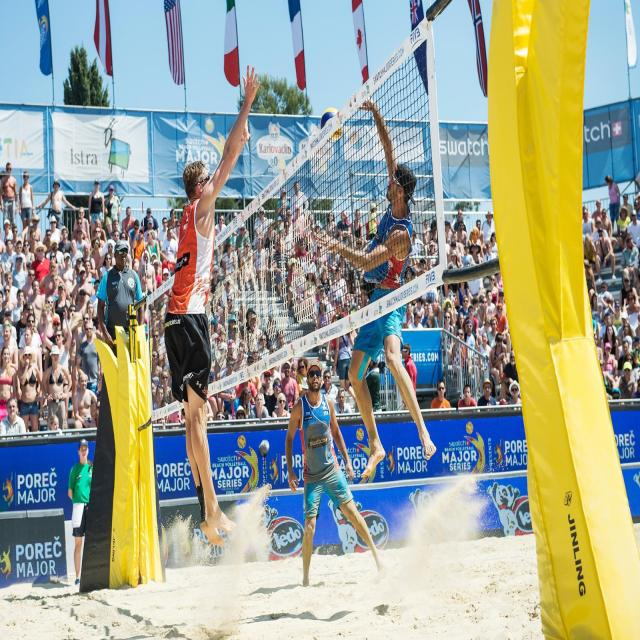body: (162, 61, 264, 550), (348, 89, 438, 480), (284, 356, 391, 590), (95, 238, 146, 342), (589, 285, 640, 372), (42, 308, 74, 430), (68, 438, 94, 586), (42, 344, 73, 430), (333, 312, 358, 408), (16, 345, 42, 432), (76, 321, 102, 404), (36, 178, 76, 230), (17, 325, 43, 396), (212, 325, 256, 363), (72, 372, 98, 435), (136, 250, 158, 320), (592, 226, 618, 284), (292, 236, 315, 297), (29, 240, 52, 300), (0, 346, 18, 420), (313, 288, 334, 350), (0, 162, 18, 234), (18, 169, 35, 244), (0, 396, 28, 441), (38, 259, 69, 298), (262, 217, 284, 271), (36, 306, 54, 372), (220, 240, 242, 293), (290, 181, 309, 242), (364, 354, 383, 414), (292, 265, 312, 322), (217, 356, 237, 413), (252, 204, 275, 252), (70, 264, 96, 306), (604, 174, 621, 238), (273, 238, 291, 298), (615, 360, 638, 406), (18, 313, 43, 355), (449, 328, 468, 383), (620, 236, 640, 288), (463, 318, 479, 381), (254, 238, 272, 294), (316, 300, 332, 362), (280, 359, 298, 414), (492, 301, 511, 353), (88, 178, 105, 235), (207, 373, 226, 424), (0, 322, 19, 372), (52, 283, 72, 330), (332, 293, 364, 322), (320, 368, 340, 414), (58, 252, 78, 298), (401, 342, 418, 396), (239, 241, 257, 292), (501, 350, 519, 400), (245, 312, 265, 357), (490, 332, 509, 379), (279, 219, 297, 268), (76, 312, 97, 354), (1, 238, 18, 289), (73, 205, 92, 250), (45, 316, 68, 353), (161, 225, 178, 275), (260, 369, 278, 416), (21, 214, 42, 254), (622, 291, 640, 337), (152, 384, 170, 430), (208, 296, 222, 354), (150, 325, 168, 370), (28, 279, 46, 324), (440, 310, 454, 367), (421, 292, 459, 313), (131, 225, 152, 262), (583, 232, 597, 287), (476, 377, 498, 412), (427, 218, 442, 269), (104, 184, 122, 226), (468, 240, 486, 282), (270, 377, 288, 418), (616, 205, 632, 250), (336, 211, 354, 251), (253, 237, 266, 292), (140, 207, 160, 242), (457, 383, 481, 412), (160, 266, 172, 324), (618, 274, 639, 307), (0, 271, 19, 307), (250, 391, 270, 425), (220, 275, 238, 312), (232, 386, 252, 419), (276, 188, 290, 235), (600, 324, 620, 356), (583, 259, 597, 304), (421, 288, 442, 318), (0, 306, 18, 341), (313, 243, 328, 284), (430, 379, 451, 408), (468, 226, 484, 264), (234, 380, 257, 406), (402, 260, 429, 282), (272, 392, 291, 423), (10, 288, 25, 327), (21, 268, 36, 307), (10, 239, 27, 273), (160, 369, 176, 405), (448, 249, 462, 290), (351, 208, 364, 252), (132, 257, 160, 277), (350, 265, 363, 307), (318, 264, 335, 296), (236, 226, 252, 260), (12, 256, 28, 290), (49, 250, 65, 284), (601, 342, 616, 378), (215, 214, 227, 259), (121, 206, 136, 242), (582, 206, 596, 244), (80, 243, 96, 276), (44, 294, 61, 325), (464, 305, 479, 340), (90, 217, 108, 246), (333, 387, 353, 413), (450, 208, 469, 235), (240, 306, 256, 338), (481, 210, 496, 244), (146, 229, 161, 263), (626, 208, 640, 244), (466, 276, 484, 304), (478, 331, 492, 367), (57, 224, 73, 255), (100, 238, 116, 268), (68, 238, 84, 268), (152, 294, 166, 328), (46, 238, 65, 263), (366, 201, 378, 240), (292, 203, 304, 242), (70, 216, 88, 242), (49, 215, 64, 246), (618, 192, 634, 220), (485, 274, 499, 306), (454, 310, 468, 342), (226, 313, 242, 341), (22, 239, 36, 271), (90, 236, 103, 270), (421, 218, 432, 258), (334, 268, 348, 299), (456, 220, 468, 256), (1, 284, 17, 311), (471, 295, 484, 328), (507, 378, 522, 406), (479, 318, 493, 348), (409, 229, 424, 257), (256, 332, 271, 360), (74, 286, 88, 316), (157, 216, 170, 248), (600, 208, 613, 239), (438, 284, 454, 309), (487, 316, 499, 349), (0, 218, 14, 246), (144, 216, 158, 244), (456, 282, 470, 310), (426, 240, 439, 270), (150, 349, 163, 379), (166, 209, 179, 238), (99, 251, 114, 276), (450, 230, 463, 258), (296, 356, 309, 384), (591, 198, 603, 228), (210, 264, 222, 294), (76, 228, 88, 258), (42, 228, 54, 258), (402, 302, 415, 329), (10, 225, 23, 252), (485, 290, 496, 321), (325, 212, 337, 240), (84, 298, 95, 328), (48, 414, 63, 436), (128, 219, 141, 244), (408, 310, 425, 329), (461, 244, 474, 268), (140, 275, 153, 299), (457, 295, 470, 319), (264, 363, 279, 383), (483, 242, 497, 263), (94, 225, 106, 249), (108, 218, 122, 238), (633, 184, 640, 224), (72, 257, 84, 280), (235, 404, 247, 426), (444, 220, 454, 246), (496, 290, 506, 316), (414, 298, 426, 319), (28, 229, 38, 253), (306, 270, 316, 292), (476, 219, 484, 246), (276, 333, 288, 351), (339, 254, 357, 266), (265, 313, 277, 331), (490, 232, 498, 256), (424, 312, 436, 328), (2, 288, 10, 309), (156, 415, 167, 430), (0, 228, 5, 261), (290, 362, 298, 379), (112, 229, 120, 244), (96, 398, 102, 416), (37, 284, 43, 294), (232, 211, 238, 220)
